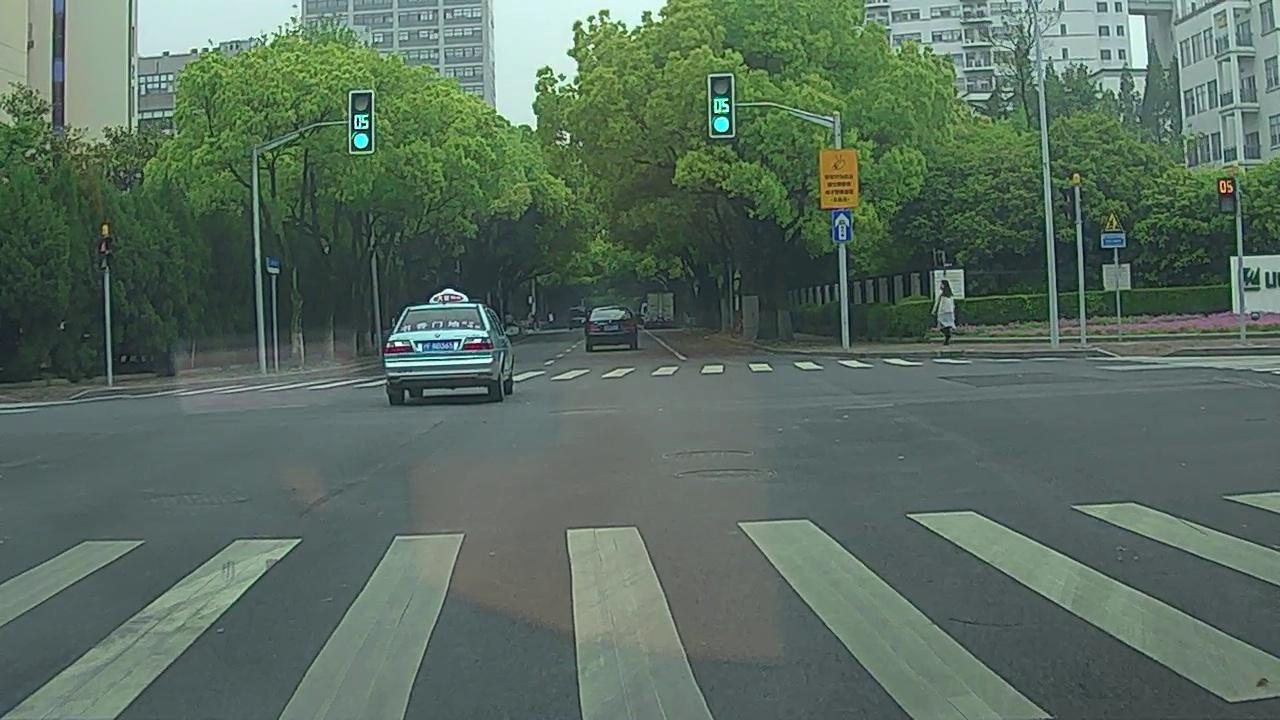traffic_light: (709, 79, 733, 136), (353, 93, 373, 153)
